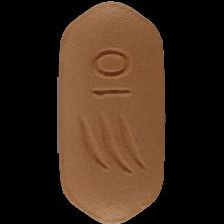0002-5123: (0, 0, 224, 224)
